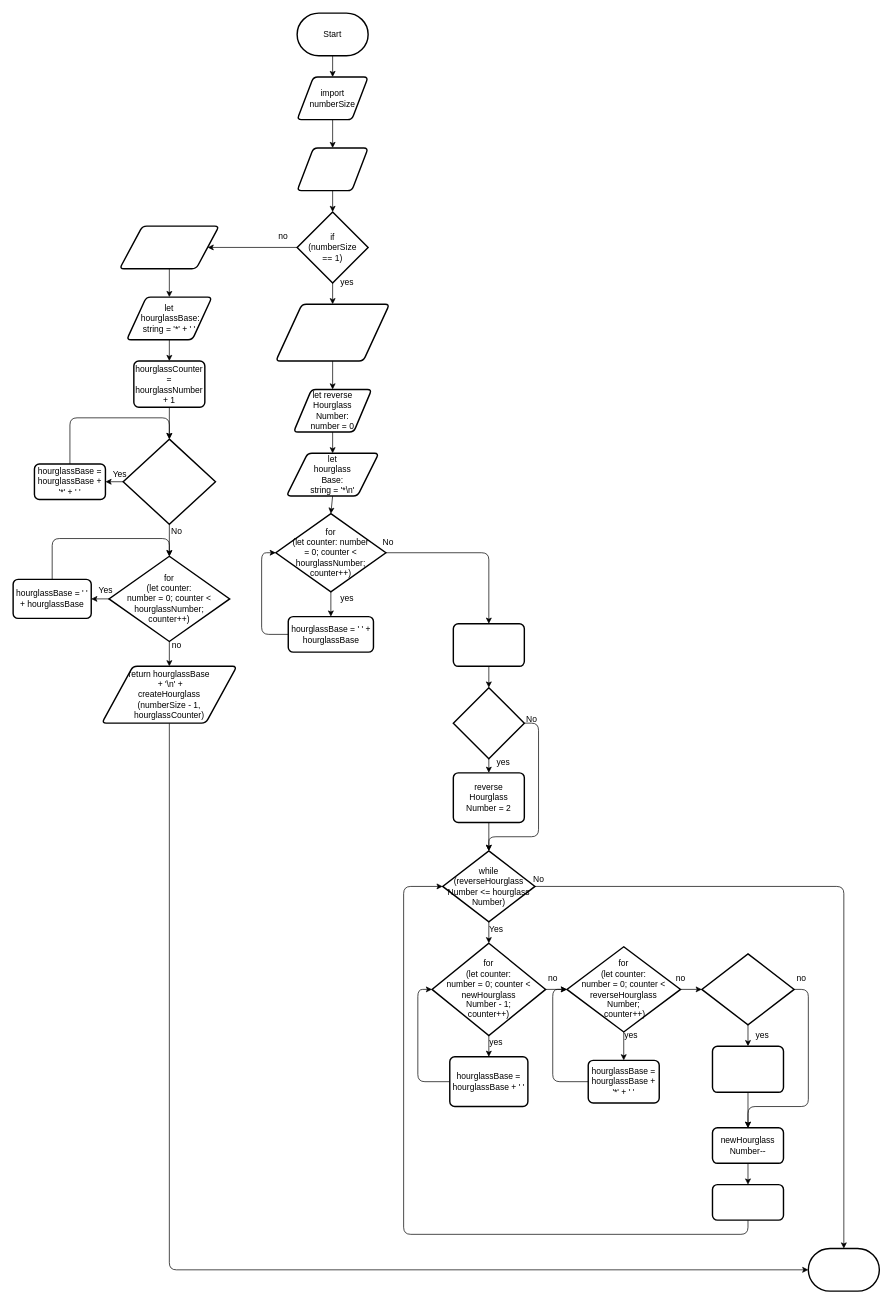
This 892x1304 diagram has some shape labels left out. The centre of each missing label's shape, as x and y in pixels:
for (let counter: number = 1; counter < numberSize; counter++): (x=169, y=481)
hourglassBase = hourglassBase + '\n': (x=747, y=1069)
hourglassBase = hourglassBase + hourglassBase: (x=488, y=645)
if (hourglass Number > 1): (x=488, y=723)
if (reverseHourglass Number < hourglass Number): (x=747, y=989)
import hourglass Number: (x=332, y=169)
let hourglassCounter: number = 1: (x=169, y=247)
let newHourglass Number: number = hourglassNumber: (x=332, y=332)
reverseHourglass Number++: (x=747, y=1202)
Stop: (x=843, y=1269)
